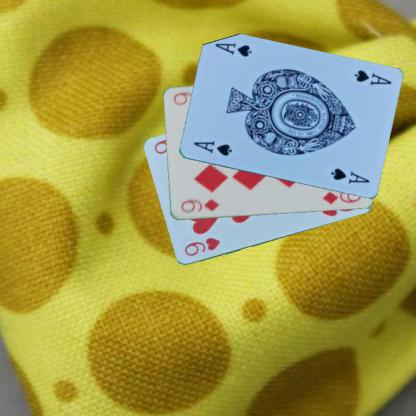9d: (179, 197, 220, 214)
9h: (182, 235, 222, 258)
As: (191, 139, 233, 158), (352, 68, 392, 86)
